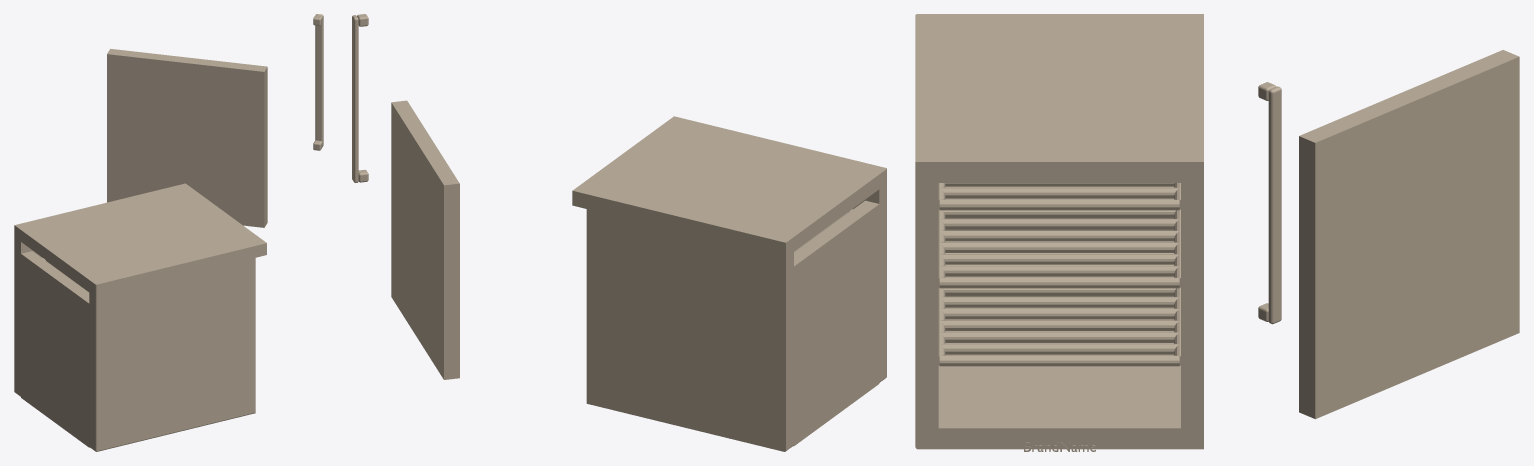
File: 3dcodebench_BeverageFridge_seed0_L1_Q2__haiku45.glb
The picture shows the model from 3 angles, left to right: view 1: azimuth 30°, elevation 25°; view 2: azimuth 150°, elevation 25°; view 3: azimuth 270°, elevation 25°; orthographic projection. The views are drawn at different scales.
Visible parts, largest first — view 1: object; view 2: object; view 3: object.
Boxes of the visible parts, x1,y1,x2,y2 form: object: [14, 14, 323, 451]; object: [352, 14, 886, 451]; object: [915, 14, 1519, 451].
Size of the model in its own units: 2.42 by 2 by 2.18.
